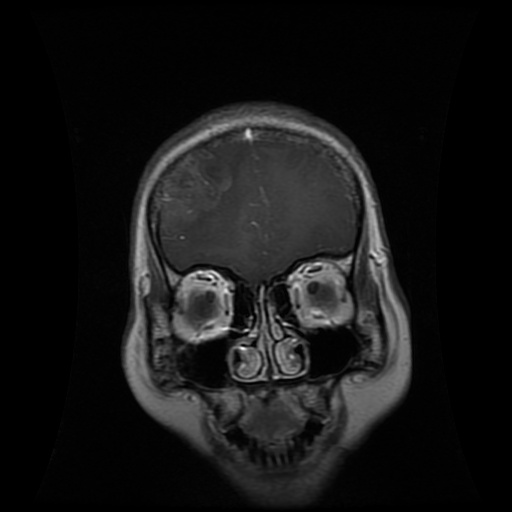glioma: (150, 144, 237, 242)
